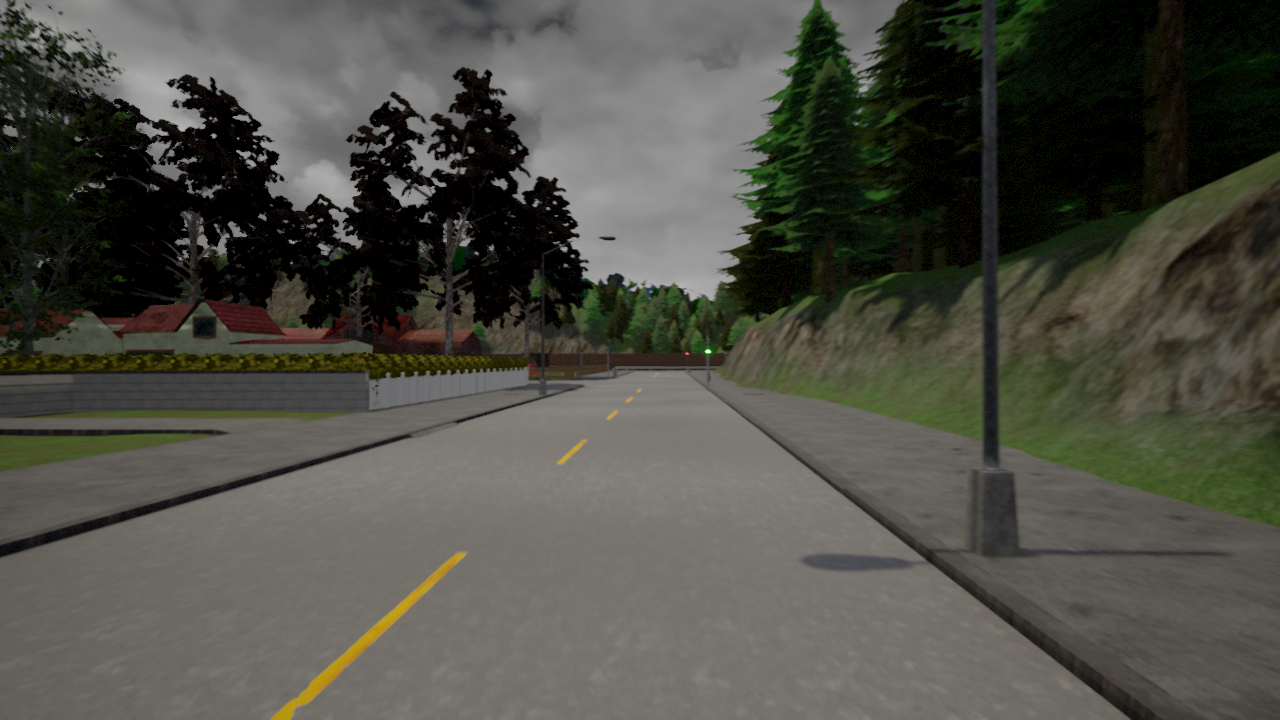green: (704, 339, 711, 354)
